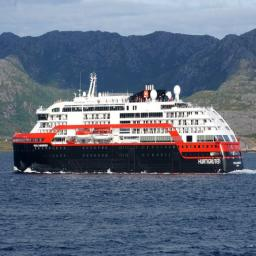cruises: (12, 71, 246, 178)
